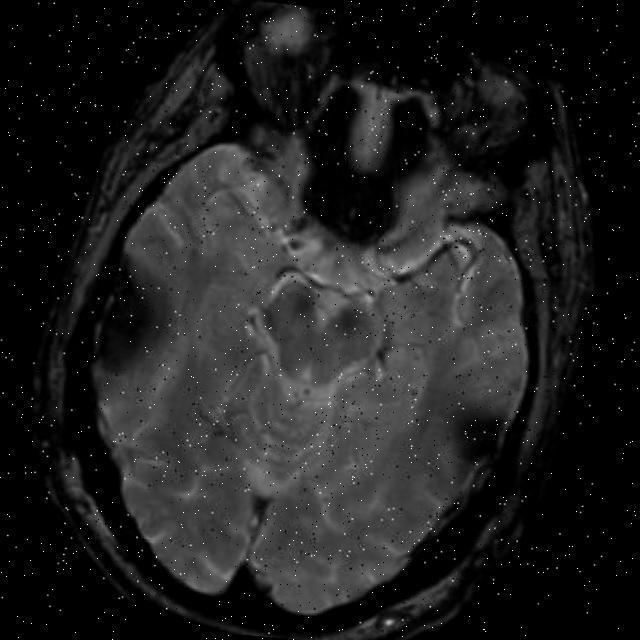EMCI: (62, 221, 206, 407)
LMCI: (276, 71, 445, 250)
MCI: (415, 377, 524, 486)
